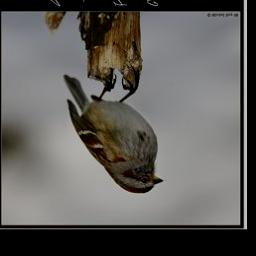Sparrow: (63, 67, 163, 195)
